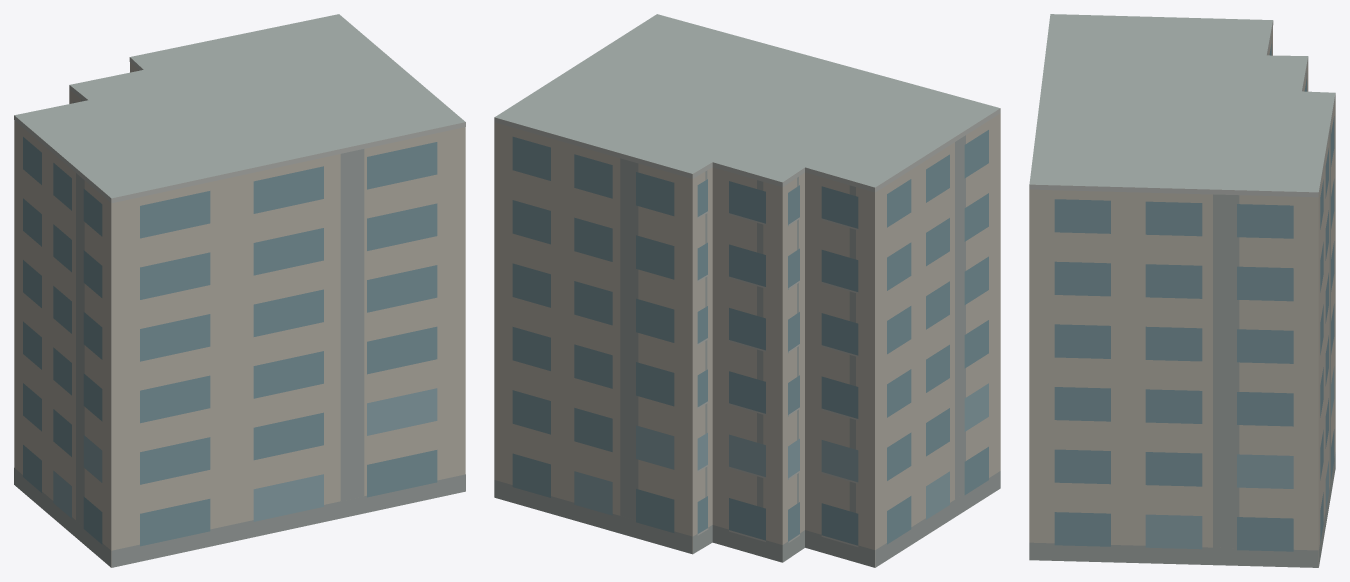
The model's file is survey-upis-32871539.glb.
The picture shows the model from 3 angles, left to right: view 1: azimuth 30°, elevation 25°; view 2: azimuth 150°, elevation 25°; view 3: azimuth 270°, elevation 25°; orthographic projection. The views are drawn at different scales.
Visible parts, largest first — view 1: survey-upis-32871539.tmp; view 2: survey-upis-32871539.tmp; view 3: survey-upis-32871539.tmp.
Part boxes in pixels (x1,y1,x2,y2): survey-upis-32871539.tmp: (14, 14, 465, 567); survey-upis-32871539.tmp: (494, 14, 1000, 567); survey-upis-32871539.tmp: (1029, 14, 1335, 567).
Size of the model in its own units: 18.96 by 18.6 by 13.76.
